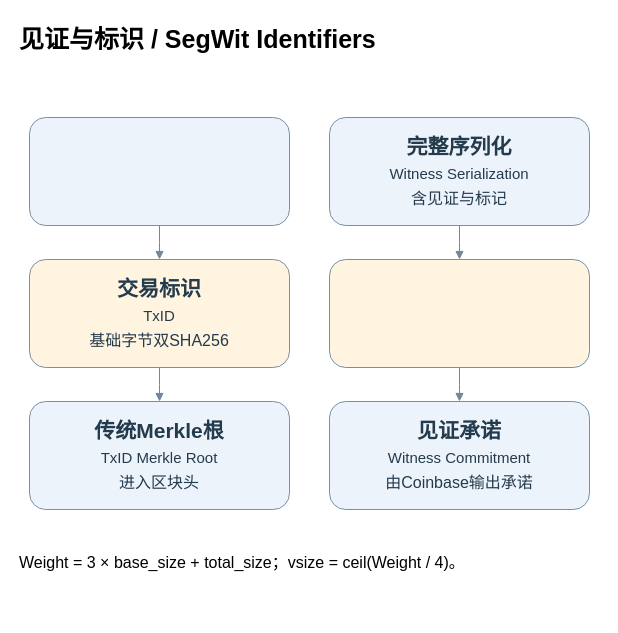
Image size: 618x633. Some labels were removed from this diagram. Each missing label, with the centre of its shape:
"基础序列化 Base Serialization 不含Witness" goes at pixel 159 171.
"见证交易标识 WTxID 完整字节双SHA256" goes at pixel 459 313.
